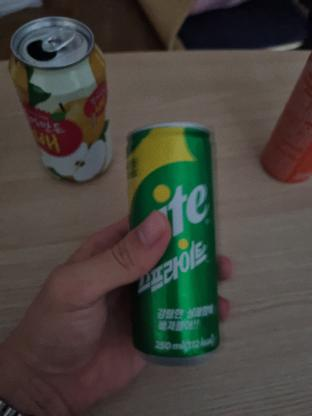Can: (135, 111, 225, 357), (21, 22, 116, 196)
